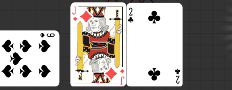4C: (173, 67, 181, 84)
9C: (38, 31, 55, 38)
